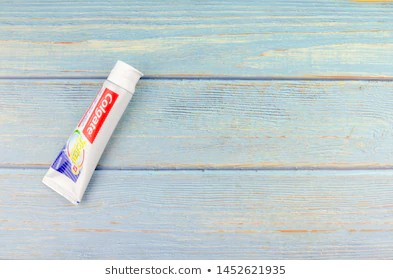colgate-total-150gm: (37, 59, 150, 205)
